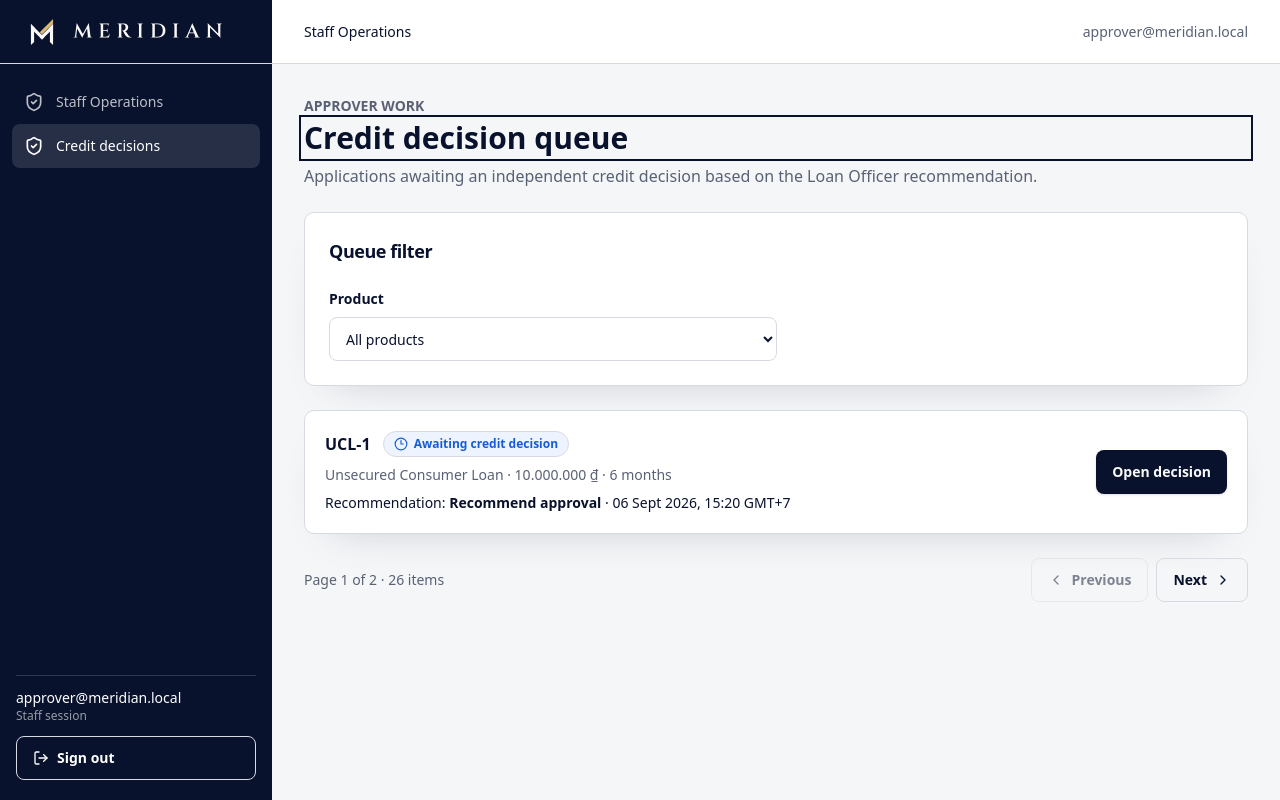
Test case: Staff approval queue › requests the next server-owned page
Expected: the heading "UCL-1" is shown, [325,432,371,456]
Click the button "Next" at (1202, 580), box [1156,558,1248,602]
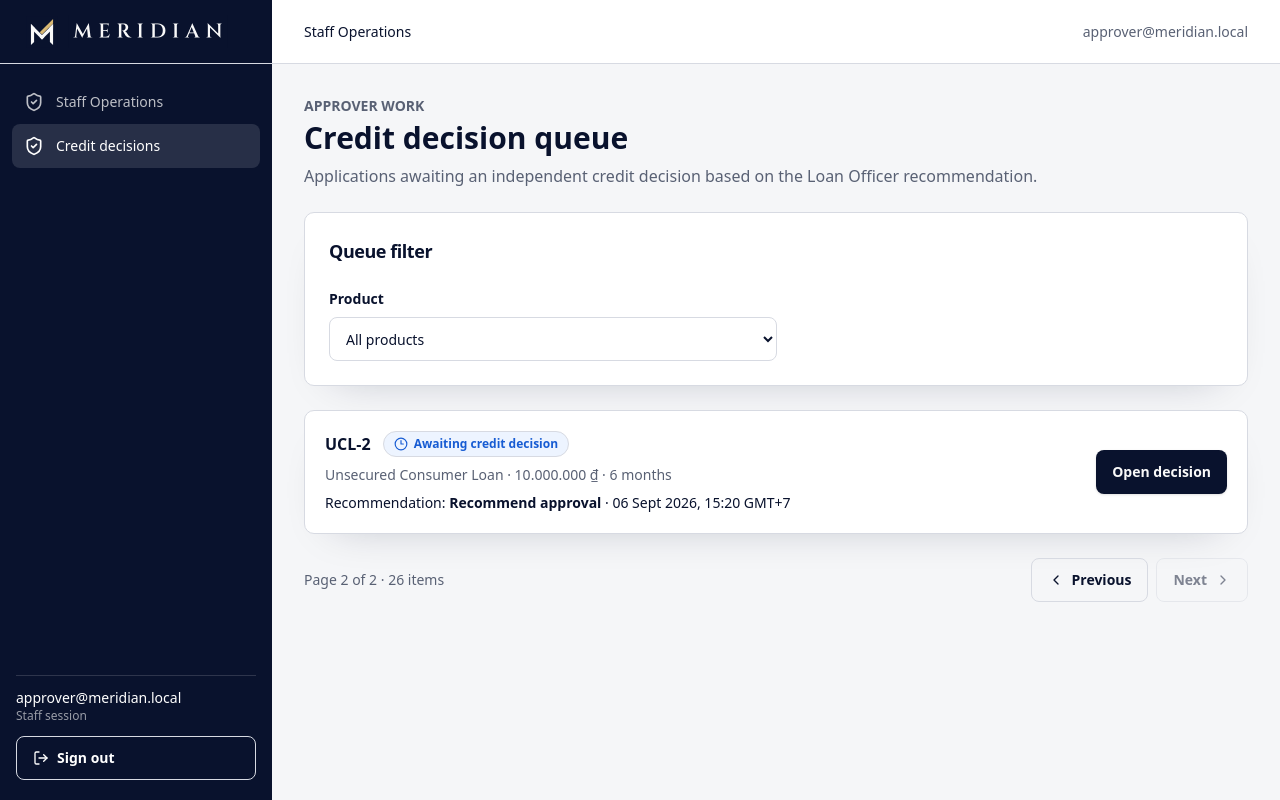
Result: the heading "UCL-2" is shown at [325,432,371,456]
